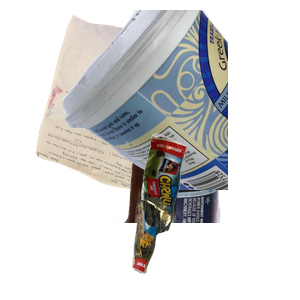glass: (29, 120, 242, 300)
paper: (33, 12, 214, 192)
plastic: (60, 10, 300, 190)
trash: (130, 131, 300, 300)
